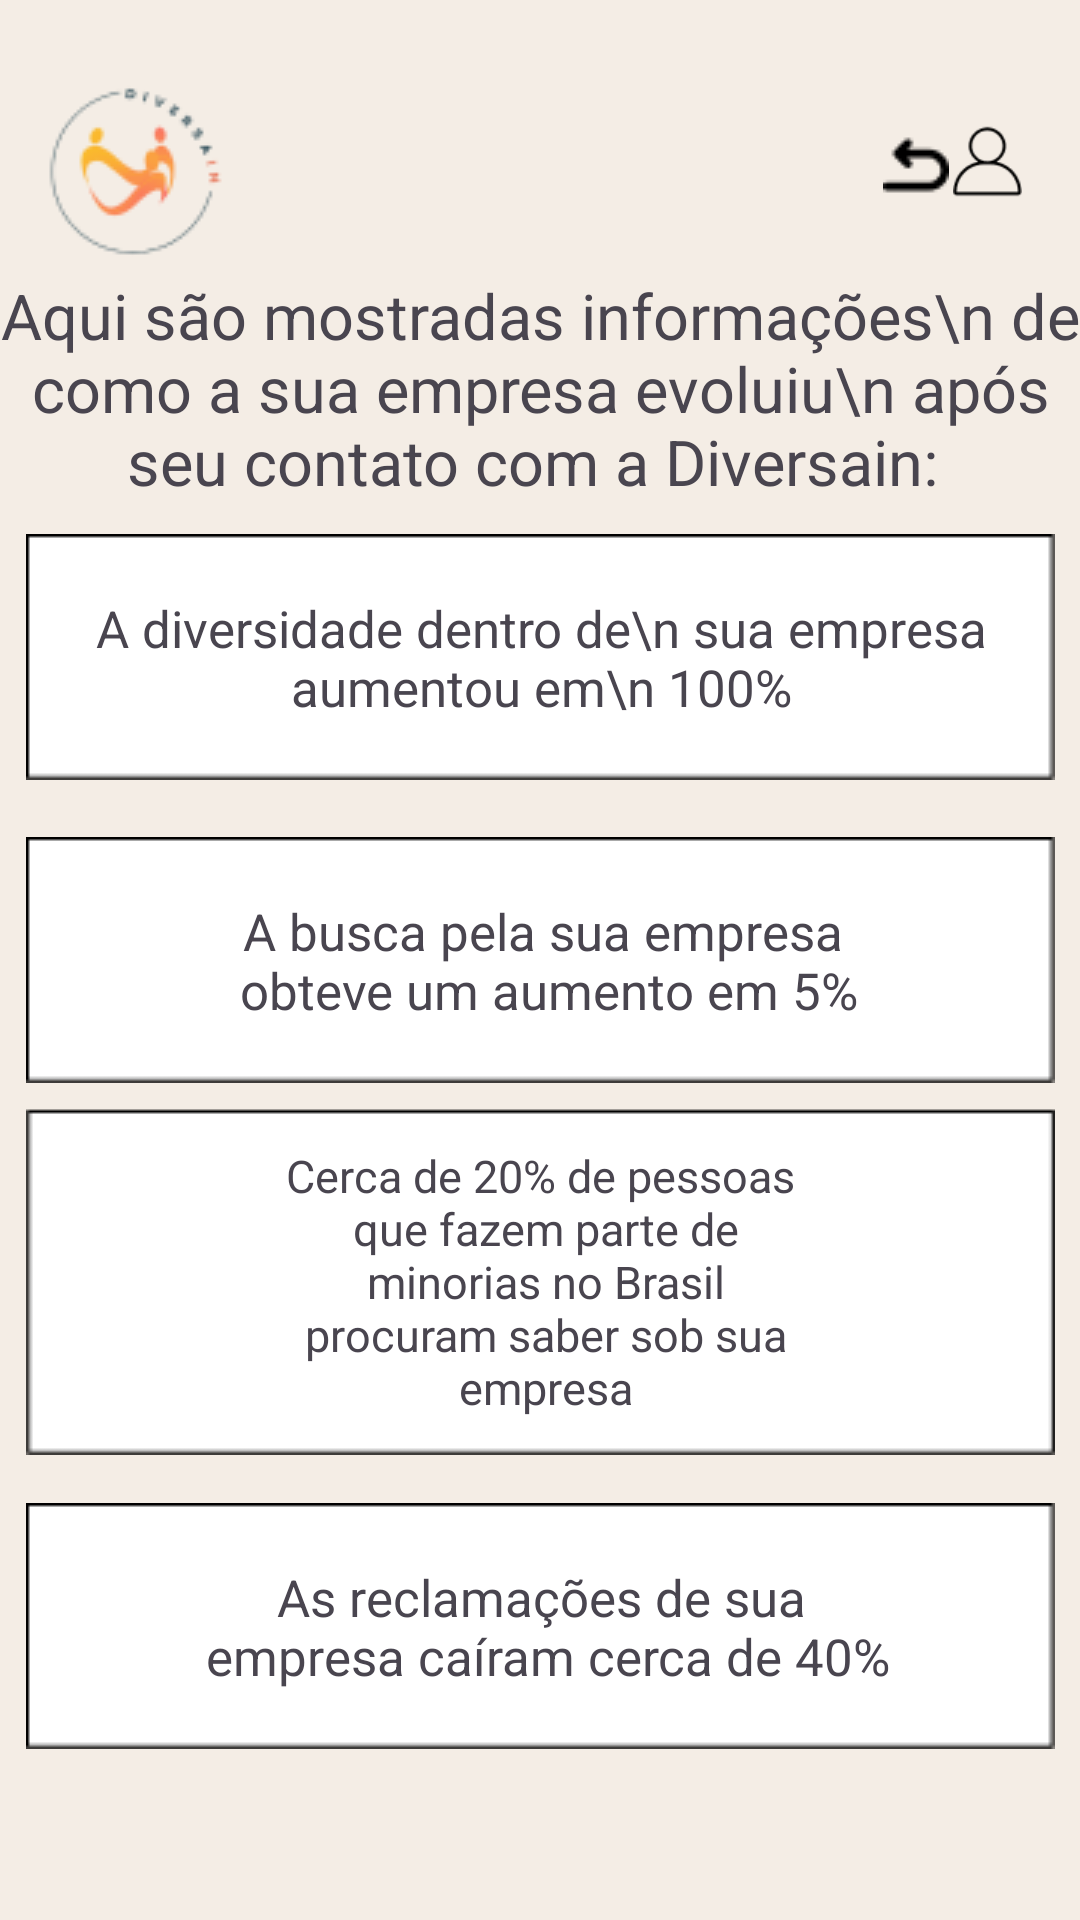

Icon bounding boxes for this 1080x1920 phone screenshot, format [left=x1, top=y1, right=x2, bottom=y2]:
imagem de usuario: [left=953, top=126, right=1022, bottom=196]
setinha: [left=883, top=137, right=949, bottom=193]
